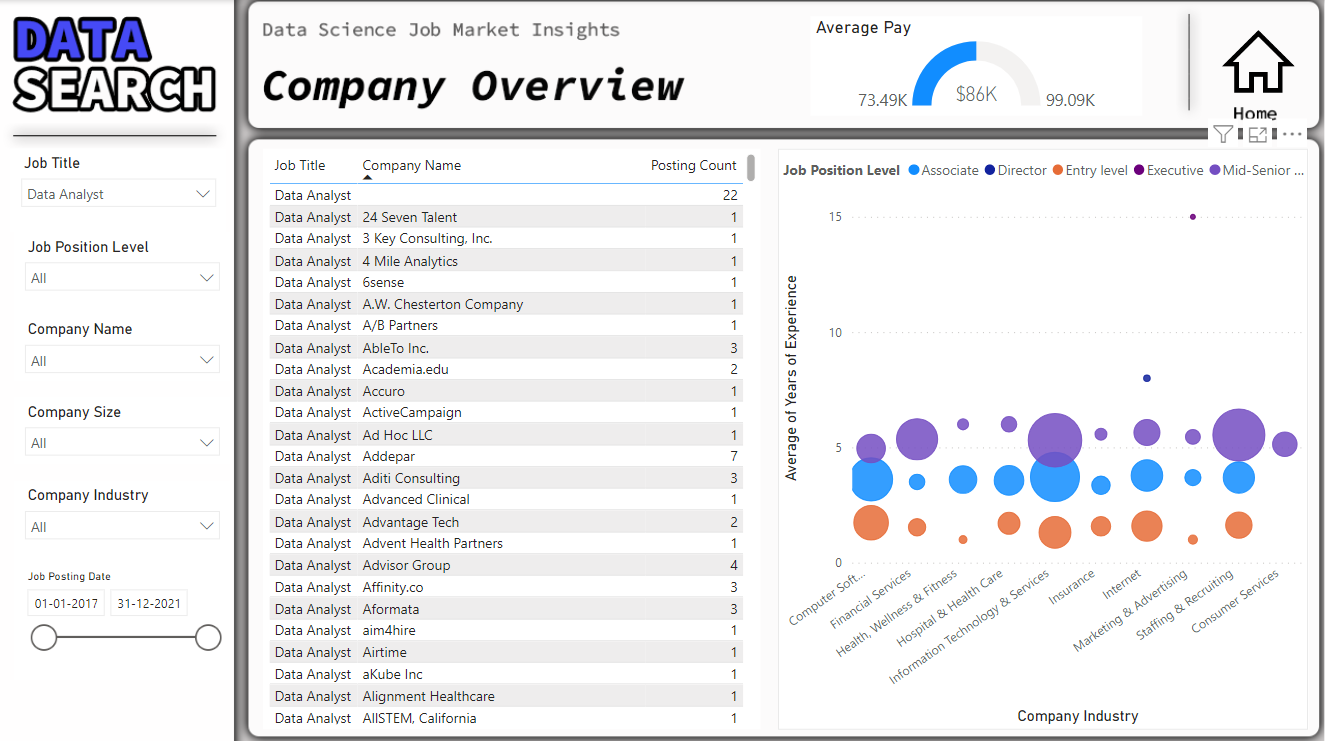

What the dashboard file says about the page in this screenshot:
{"tool":"powerbi","page":{"name":"Company","canvas":[1280,720],"ordinal":3},"visuals":[{"type":"slicer","fields":{"Values":["Job Postings.Job Title"]},"box":[12,144,208,80],"z":0},{"type":"slicer","fields":{"Values":["Job Postings.Job Position Level"]},"box":[16,224,208,80],"z":1000},{"type":"slicer","fields":{"Values":["Job Postings.Company Name"]},"box":[16,304,208,64],"z":2000},{"type":"slicer","fields":{"Values":["Job Postings.Company Size"]},"box":[16,384,208,64],"z":3000},{"type":"slicer","fields":{"Values":["Job Postings.Company Industry"]},"box":[16,464,208,80],"z":4000},{"type":"slicer","fields":{"Values":["Job Postings.Job Posting Date"]},"box":[16,544,208,112],"z":5000},{"type":"scatterChart","fields":{"Y":["Avg(Job Postings.Years of Experience)"],"X":["Job Postings.Company Industry"],"Size":["_Measures.Posting Count"],"Series":["Job Postings.Job Position Level"]},"box":[752,144,512,560],"z":6000},{"type":"tableEx","fields":{"Values":["Job Postings.Job Title","Job Postings.Company Name","_Measures.Posting Count"]},"box":[256,144,480,560],"z":7000},{"type":"gauge","title":"Average Pay","fields":{"Y":["_Measures.Average of Average Pay"],"MinValue":["Avg(Job Postings.Minimum Pay)"],"MaxValue":["Avg(Job Postings.Maximum Pay)"]},"box":[784,16,320,96],"z":8000},{"type":"image","box":[1176,16,80,88],"z":9000}]}

Visuals, with their boxes on the page's 1280x720 design canvas (x1, y1, x2, y2). These are canvas units, not pixel positions in the 1325x741 screenshot, which may show the page scaled, cropped or inside an application window:
slicer - Job Postings.Job Title: BBox(12, 144, 220, 224)
slicer - Job Postings.Job Position Level: BBox(16, 224, 224, 304)
slicer - Job Postings.Company Name: BBox(16, 304, 224, 368)
slicer - Job Postings.Company Size: BBox(16, 384, 224, 448)
slicer - Job Postings.Company Industry: BBox(16, 464, 224, 544)
slicer - Job Postings.Job Posting Date: BBox(16, 544, 224, 656)
scatterChart - Avg(Job Postings.Years of Experience) x Job Postings.Company Industry: BBox(752, 144, 1264, 704)
tableEx - Job Postings.Job Title x Job Postings.Company Name: BBox(256, 144, 736, 704)
"Average Pay" gauge: BBox(784, 16, 1104, 112)
image: BBox(1176, 16, 1256, 104)
